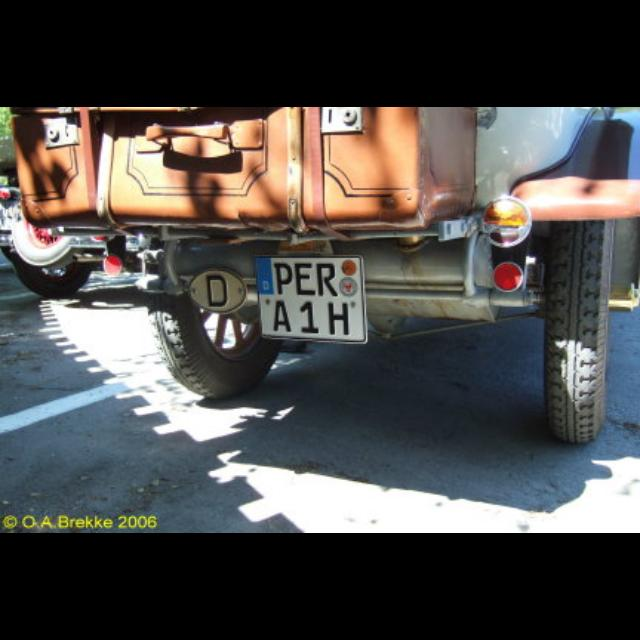d_license_plate: (253, 254, 364, 342)
